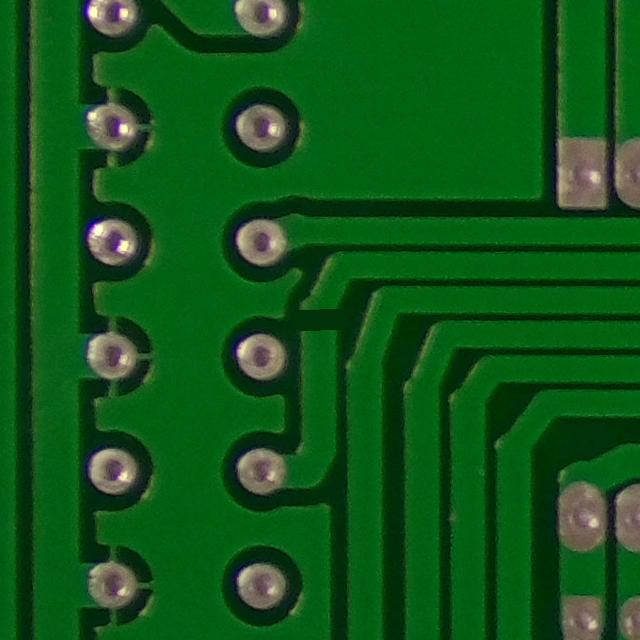open_circuit: (284, 291, 357, 350)
